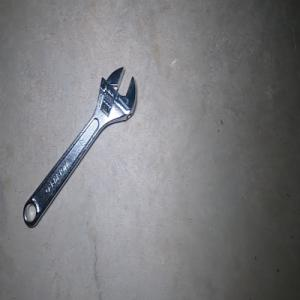Wrench: (22, 66, 136, 228)
